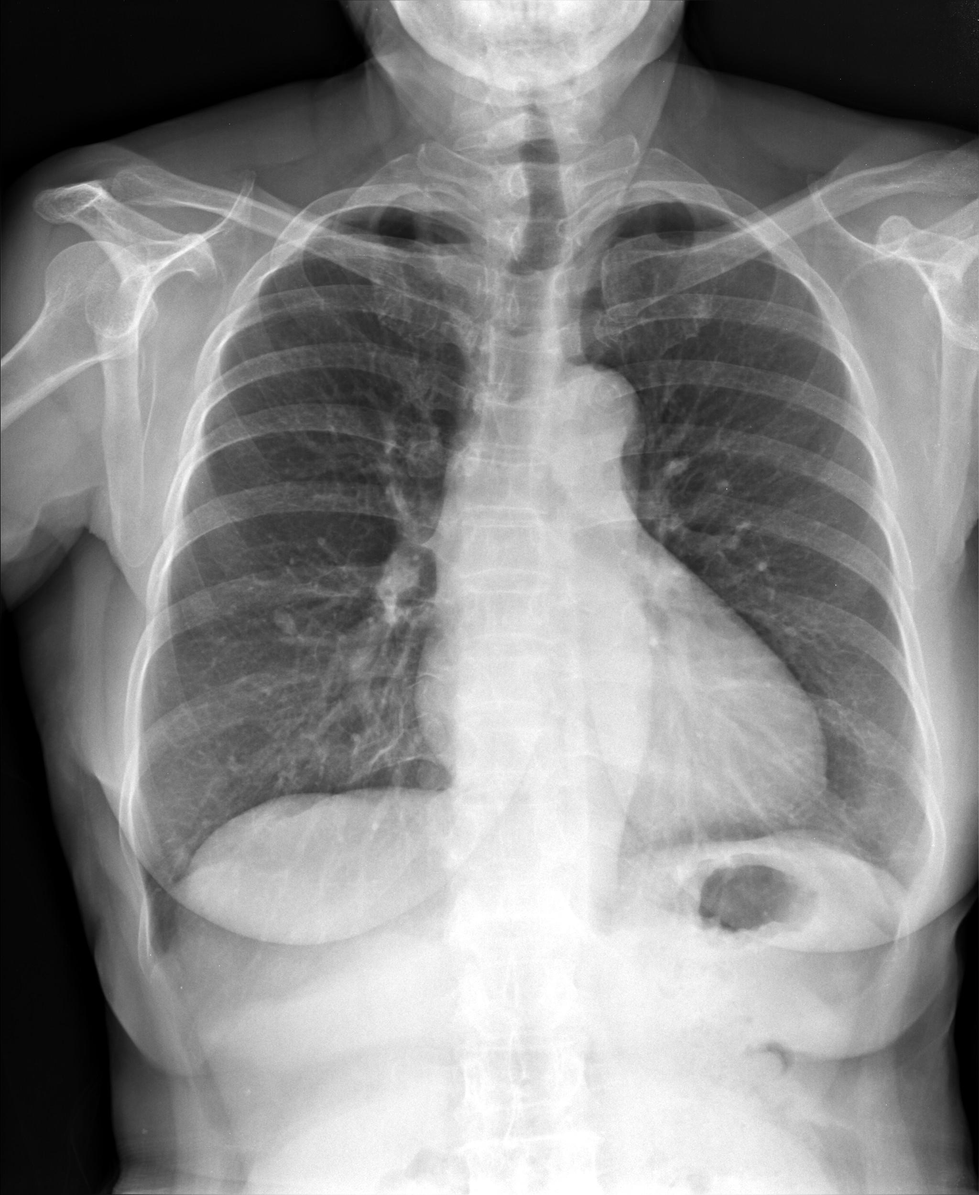Pleural thickening: (878, 819, 947, 948), (133, 872, 194, 1009)
